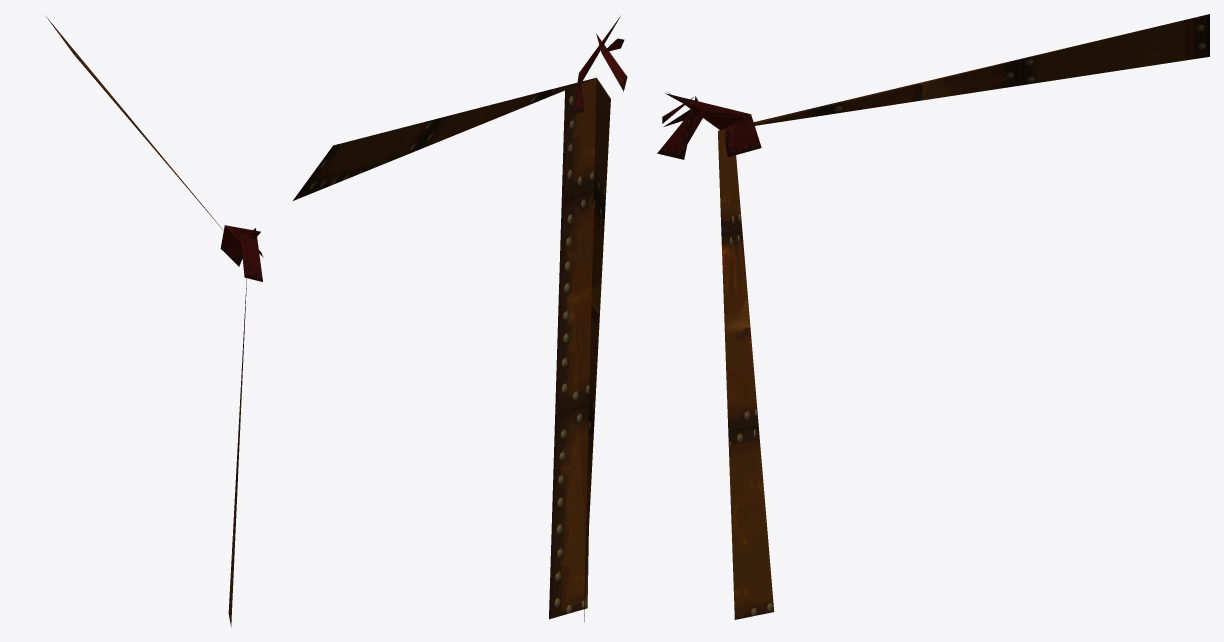
Rendered from Stütze_Winkel2_889.glb.
3 views of the same model, side by side, from view 1: azimuth 30°, elevation 25°; view 2: azimuth 150°, elevation 25°; view 3: azimuth 270°, elevation 25° (orthographic). The views are drawn at different scales.
Parts seen in each view (by area): view 1: pPlaneShape53, pPlaneShape66, pPlaneShape65; view 2: pPlaneShape53, pPlaneShape65, pPlaneShape66; view 3: pPlaneShape53, pPlaneShape65, pPlaneShape66.
Part boxes in pixels (x1,y1,x2,y2): pPlaneShape53: (46,16,246,627); pPlaneShape66: (240,228,263,281); pPlaneShape65: (220,225,260,266); pPlaneShape53: (293,77,610,621); pPlaneShape65: (573,16,620,113); pPlaneShape66: (596,33,627,91); pPlaneShape53: (718,14,1209,619); pPlaneShape65: (665,92,761,156); pPlaneShape66: (657,96,705,159).
Bounding box in the file's own units: 0.0975 × 0.7416 × 0.6132.
Materials: 3 (3 with a texture image).
